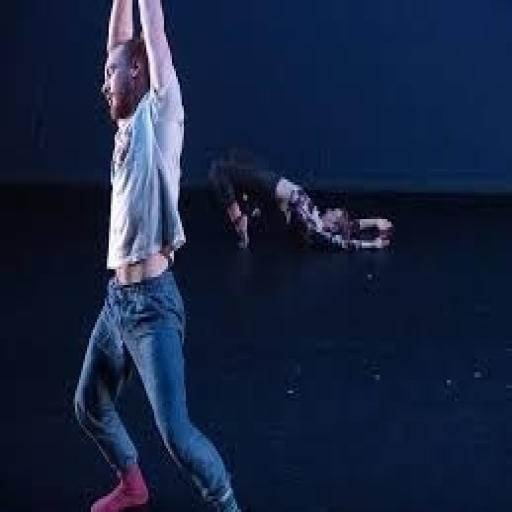dancing: (69, 0, 264, 509)
